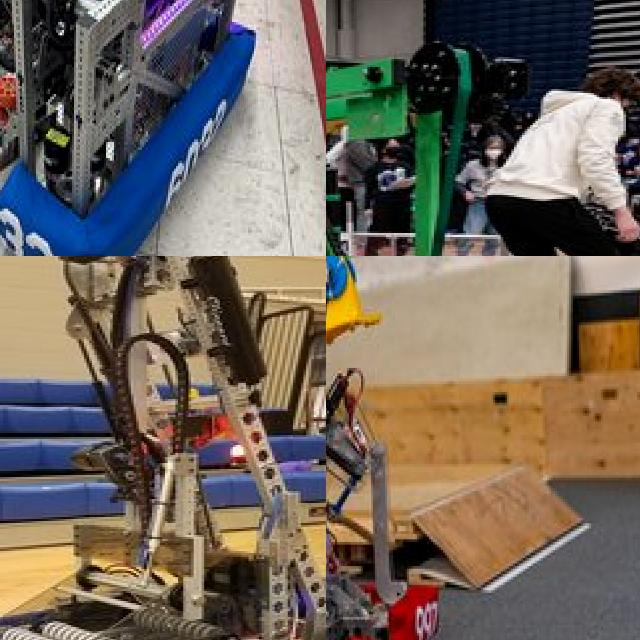FRC-Robots: (0, 256, 326, 640), (326, 256, 640, 640), (0, 0, 296, 256), (326, 35, 620, 256), (548, 193, 640, 256)
